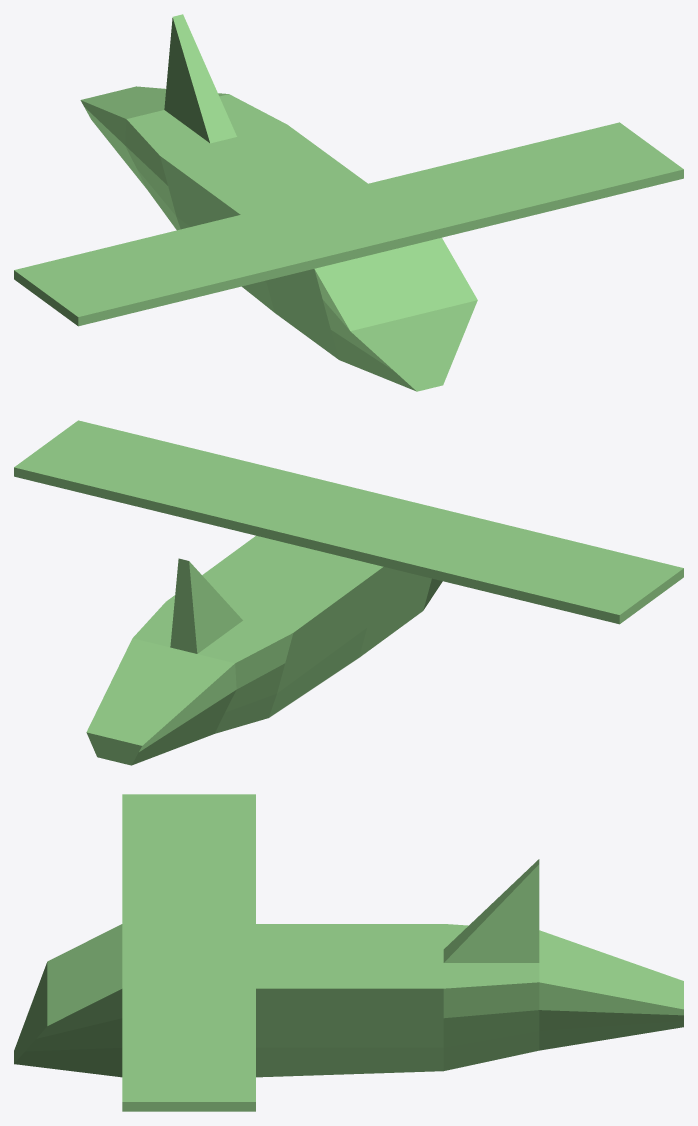
The picture shows the model from 3 angles, top to bottom: view 1: azimuth 30°, elevation 25°; view 2: azimuth 150°, elevation 25°; view 3: azimuth 270°, elevation 25°; orthographic projection. The views are drawn at different scales.
Visible parts, largest first — view 1: Cube; view 2: Cube; view 3: Cube.
Part boxes in pixels (x1=…): Cube: x1=14, y1=14, x2=683, y2=391; Cube: x1=14, y1=420, x2=683, y2=765; Cube: x1=14, y1=794, x2=683, y2=1111.
Bounding box in the file's own units: 316 × 94 × 291.
